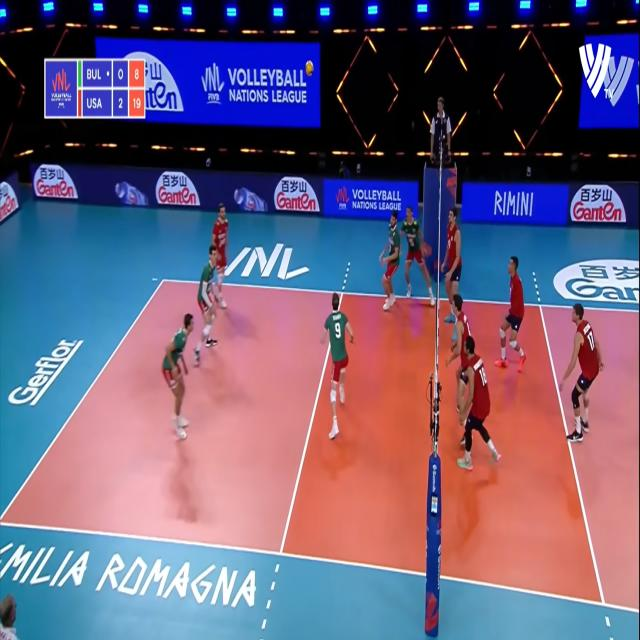player: (458, 332, 506, 474), (560, 301, 604, 452), (159, 303, 199, 453), (323, 278, 354, 447), (399, 203, 436, 309), (499, 254, 525, 387), (197, 238, 222, 372), (379, 205, 402, 325), (212, 202, 236, 298), (449, 294, 476, 374), (442, 212, 460, 309)
